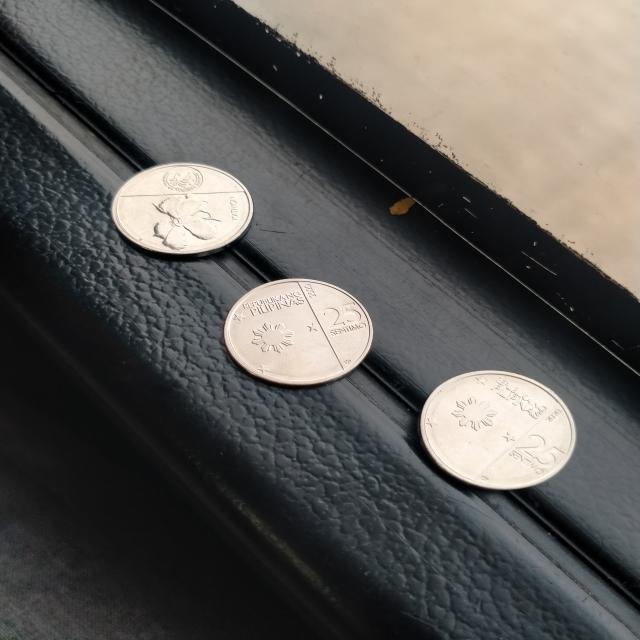25Cent_New_Back: (151, 192, 226, 248)
25Cent_New_Front: (506, 425, 554, 479), (316, 298, 371, 344)
